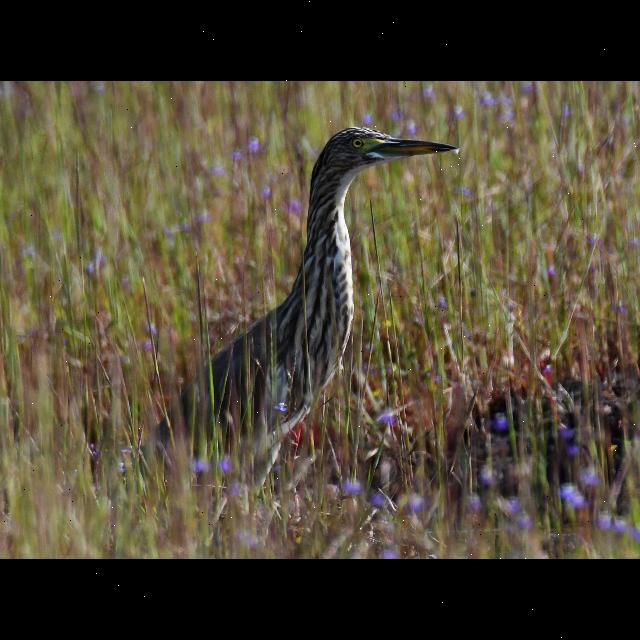heron: (160, 120, 470, 484)
